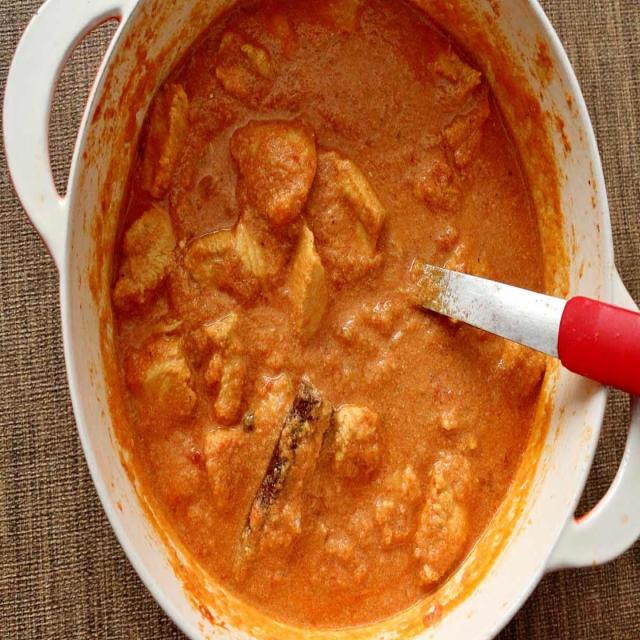chicken: (105, 0, 564, 640)
